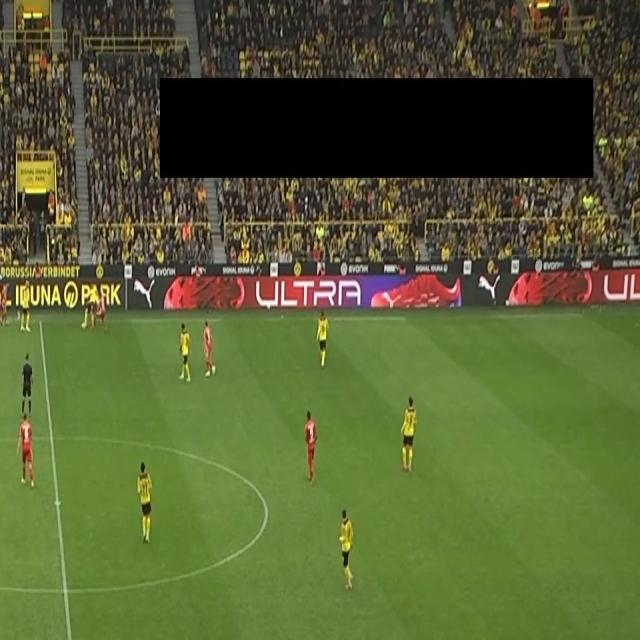ball: (80, 321, 86, 332)
